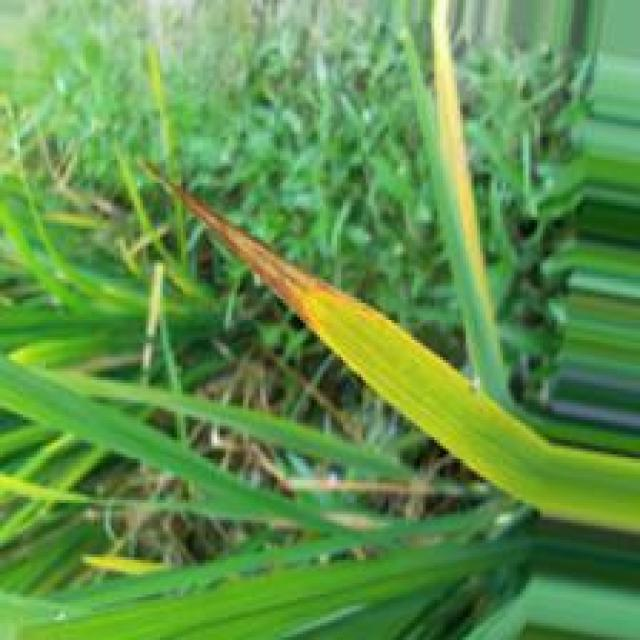Rice False Smut: (180, 193, 353, 337)
